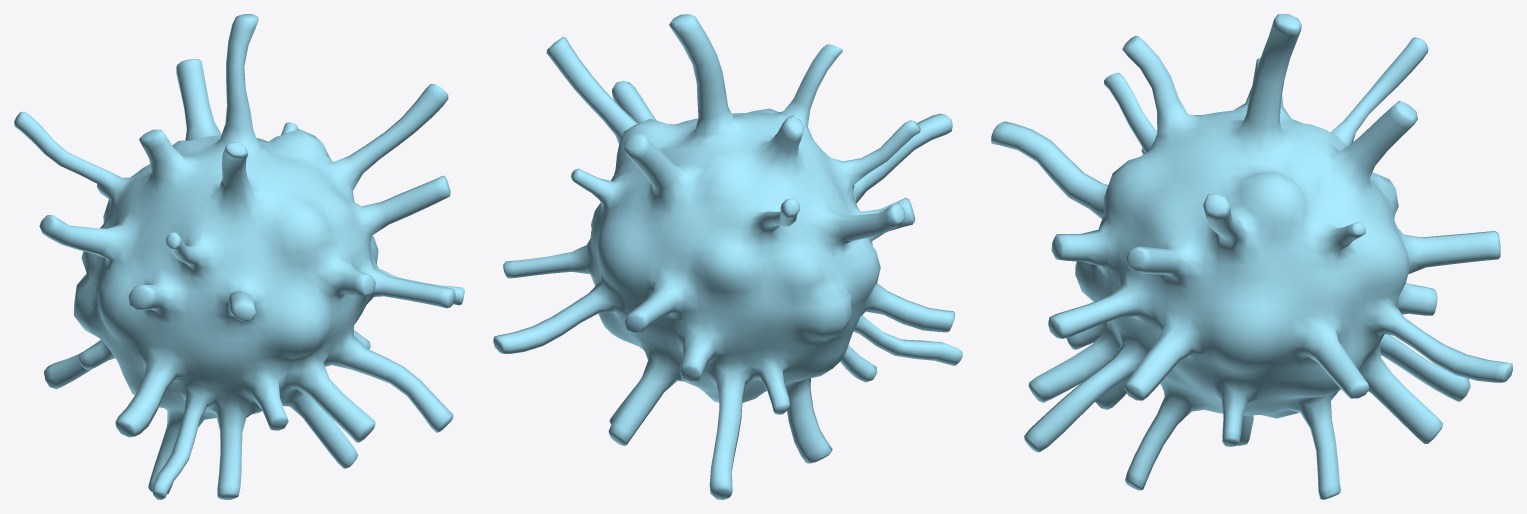
Rendered from macrophage.fbx.
3 renders of one model, left to right at view 1: azimuth 30°, elevation 25°; view 2: azimuth 150°, elevation 25°; view 3: azimuth 270°, elevation 25°, orthographic. The views are drawn at different scales.
Parts seen in each view (by area): view 1: macrophage; view 2: macrophage; view 3: macrophage.
Boxes of the visible parts, <box> form: macrophage: <box>14,14,464,499</box>; macrophage: <box>493,14,962,499</box>; macrophage: <box>991,14,1512,499</box>.
Bounding box in the file's own units: 1323 × 1457 × 1421.
